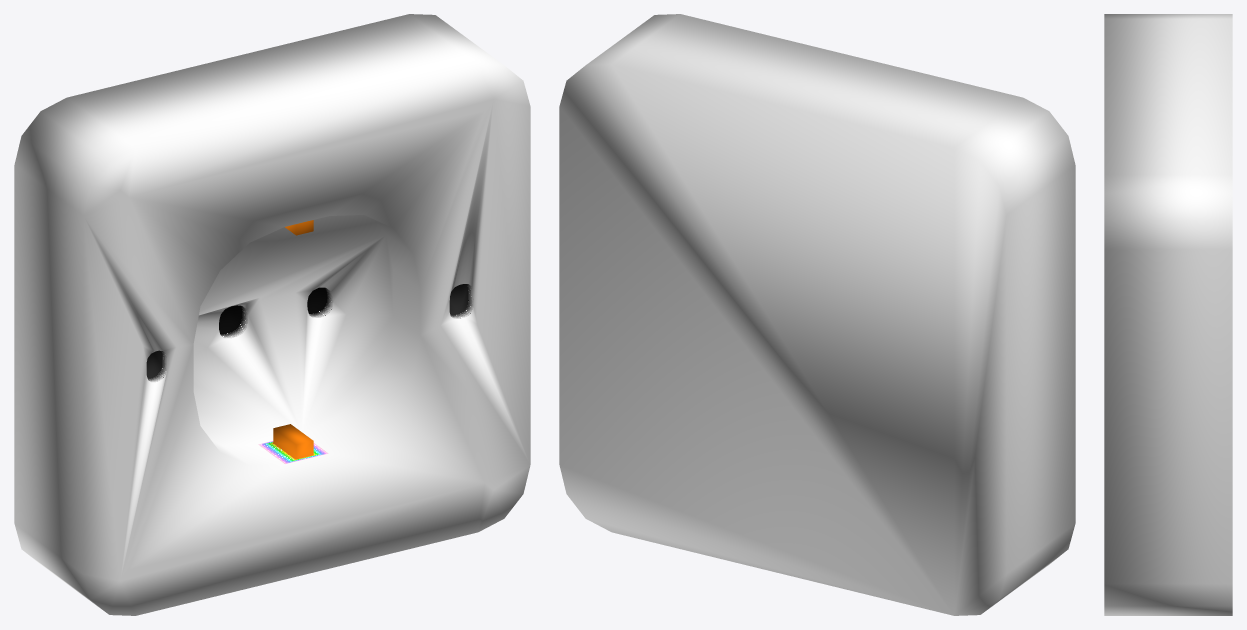
The model's file is Colokan.fbx.
3 renders of one model, left to right at view 1: azimuth 30°, elevation 25°; view 2: azimuth 150°, elevation 25°; view 3: azimuth 270°, elevation 25°, orthographic. The views are drawn at different scales.
Parts seen in each view (by area): view 1: Colokan; view 2: Colokan; view 3: Colokan.
Part boxes in pixels (<box>): Colokan: <box>14,14,530,615</box>; Colokan: <box>559,14,1075,615</box>; Colokan: <box>1104,14,1232,615</box>.
Bounding box in the file's own units: 54.92 × 54.92 × 14.67.
